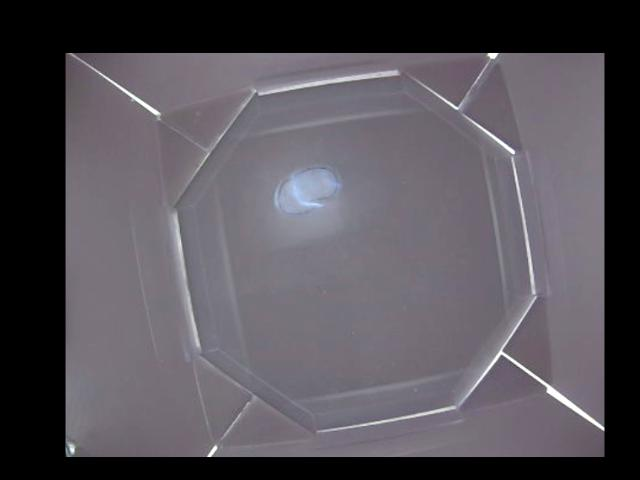Pebble: (270, 160, 339, 221)
